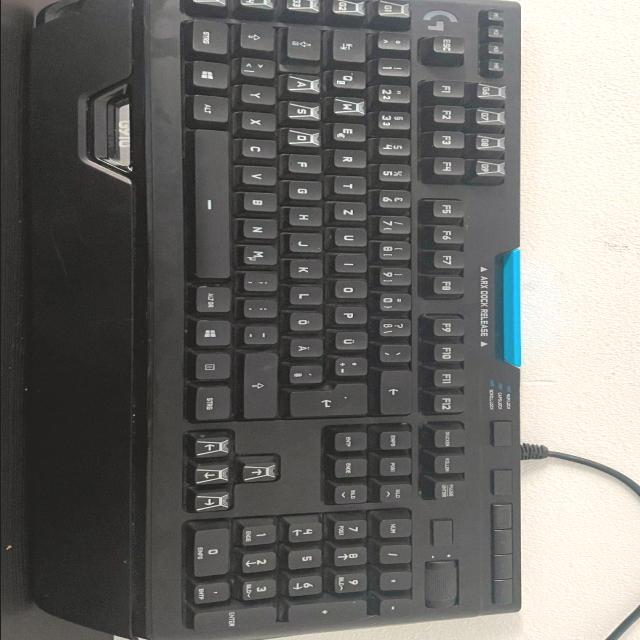0: (380, 290, 416, 310)
1: (380, 56, 415, 76)
2: (380, 82, 416, 102)
3: (378, 109, 415, 129)
4: (379, 136, 416, 156)
5: (379, 162, 416, 182)
6: (380, 188, 416, 208)
7: (380, 213, 416, 233)
8: (378, 239, 416, 259)
9: (379, 265, 417, 285)
a: (287, 73, 325, 93)
accent: (381, 342, 416, 361)
ae: (291, 336, 327, 356)
alt-left: (195, 93, 233, 121)
altgr-right: (196, 284, 236, 312)
b: (246, 190, 282, 211)
c: (243, 137, 280, 158)
caret: (380, 30, 415, 50)
comma: (245, 270, 282, 290)
d: (289, 127, 325, 147)
del: (380, 368, 420, 414)
e: (334, 121, 370, 141)
enter: (291, 380, 373, 416)
f: (290, 153, 326, 173)
g: (290, 179, 326, 199)
h: (291, 205, 327, 225)
hash: (291, 363, 327, 383)
i: (336, 252, 371, 272)
j: (290, 232, 327, 252)
k: (291, 258, 327, 278)
keyboard: (134, 0, 530, 640)
l: (291, 284, 327, 304)
less: (242, 55, 280, 77)
m: (244, 242, 282, 264)
minus: (246, 323, 282, 343)
n: (245, 217, 282, 238)
o: (336, 278, 371, 298)
oe: (291, 310, 327, 330)
p: (337, 303, 371, 323)
plus: (336, 355, 372, 375)
point: (246, 297, 282, 317)
q: (334, 67, 370, 88)
r: (335, 147, 370, 167)
s: (289, 100, 325, 120)
shift-left: (240, 21, 278, 50)
shift-lock: (287, 25, 323, 59)
shift-right: (244, 350, 282, 418)
space: (194, 126, 234, 278)
ss: (380, 316, 416, 336)
strg-left: (192, 18, 232, 54)
strg-right: (195, 384, 235, 421)
t: (335, 174, 370, 194)
tab: (334, 28, 370, 62)
u: (336, 226, 371, 246)
ue: (336, 329, 372, 349)
v: (244, 164, 281, 184)
w: (335, 95, 371, 114)
x: (243, 110, 280, 131)
y: (242, 83, 280, 104)
z: (335, 200, 371, 220)
